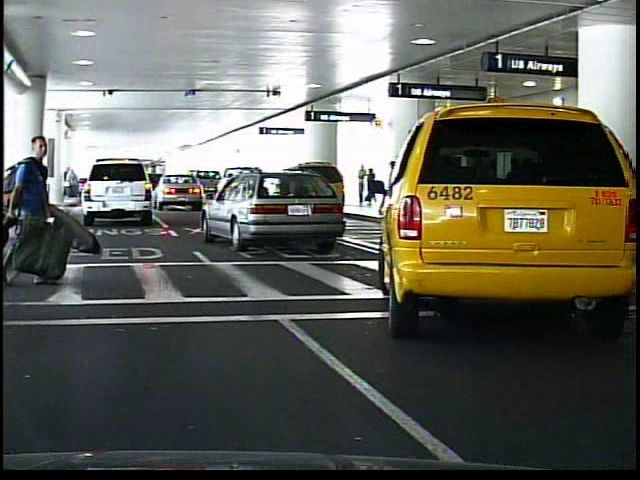person: (13, 128, 66, 294), (365, 165, 376, 204), (355, 165, 366, 204)
